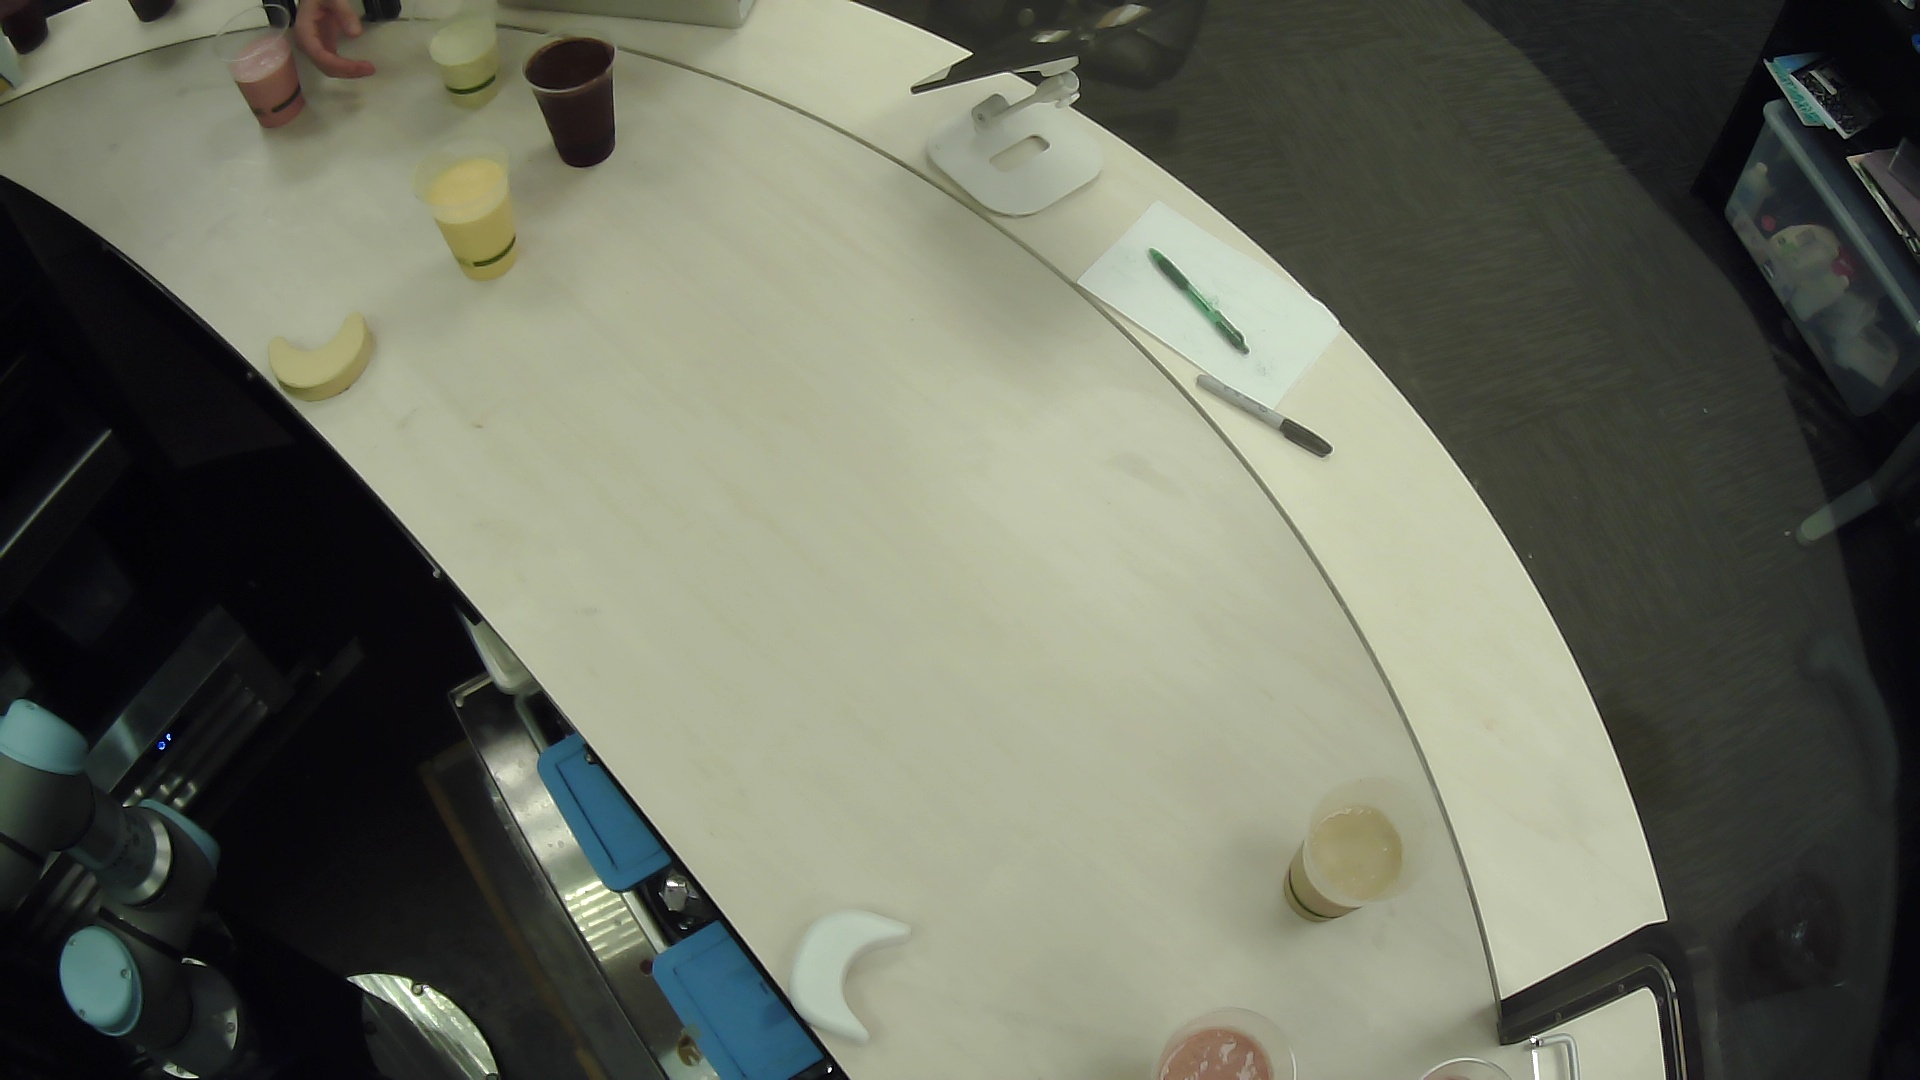Deliver: (775, 884, 931, 1064), (253, 298, 389, 417)
Full_cup: (1266, 775, 1437, 942), (514, 11, 641, 189), (189, 1, 328, 135), (407, 141, 524, 293), (1142, 1000, 1329, 1080), (414, 1, 517, 120)
